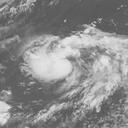cyclone: (20, 36, 76, 85)
